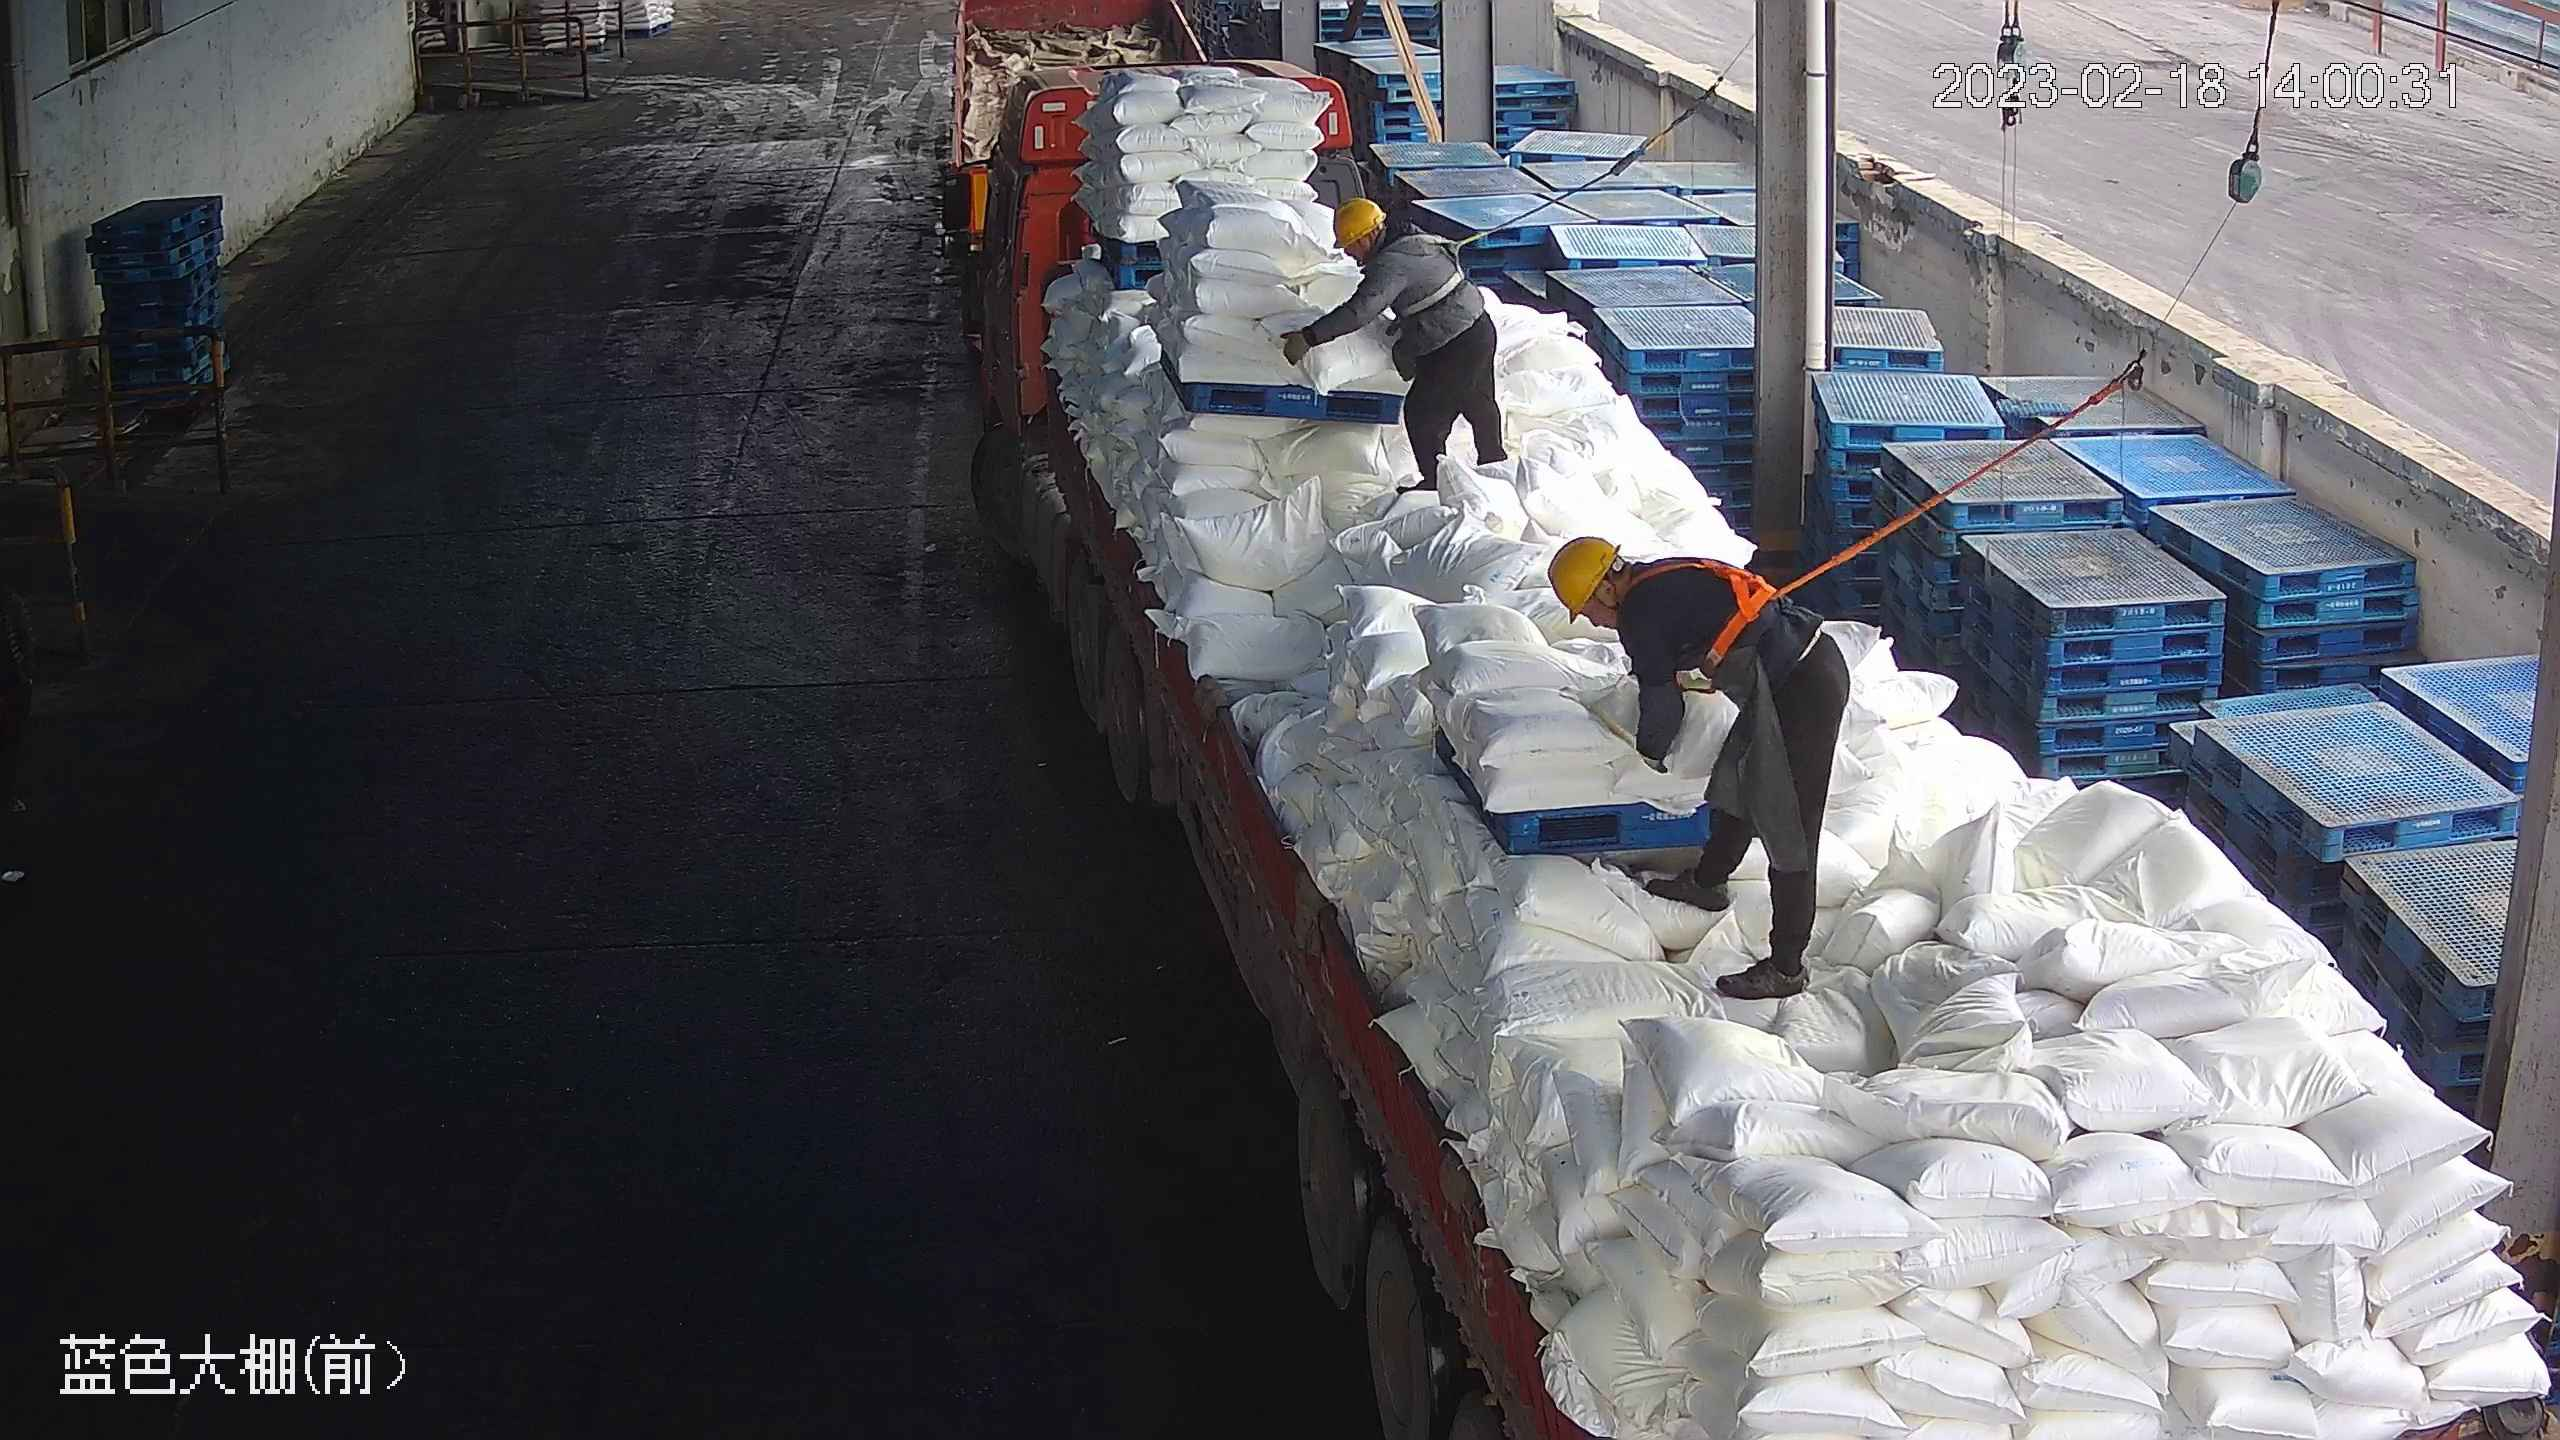belt: (1628, 546, 1797, 687), (1380, 222, 1487, 319)
head: (1551, 531, 1725, 677), (1325, 195, 1451, 303)
helmet: (1548, 534, 1618, 622), (1330, 195, 1385, 245)
people: (1544, 530, 1846, 998), (1282, 194, 1507, 496)
truck: (937, 44, 2549, 1440)
